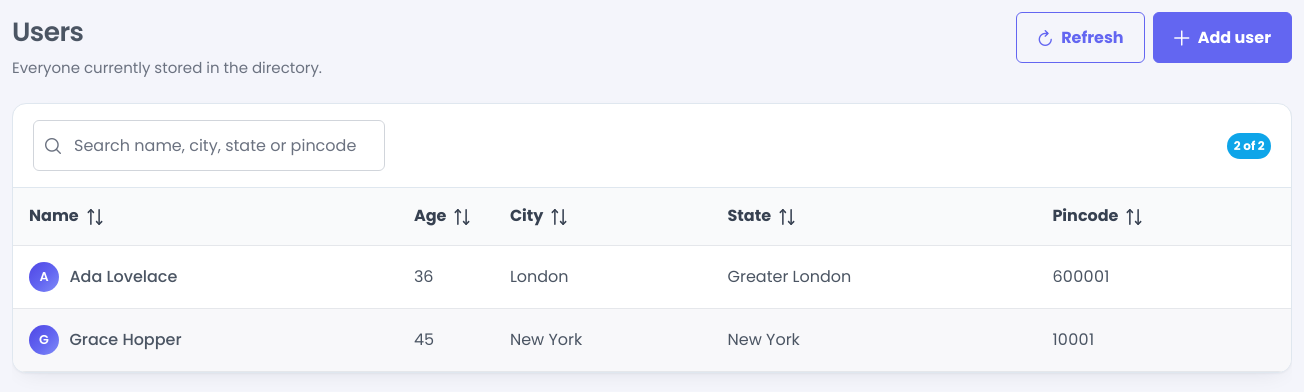
it: UserListPage › filters rows as the user searches
Expected: the text "Ada Lovelace" is shown, x1=69 y1=265 x2=177 y2=288
Type "new york" into the field named "Search users" at (209, 146), box x1=33 y1=120 x2=385 y2=171
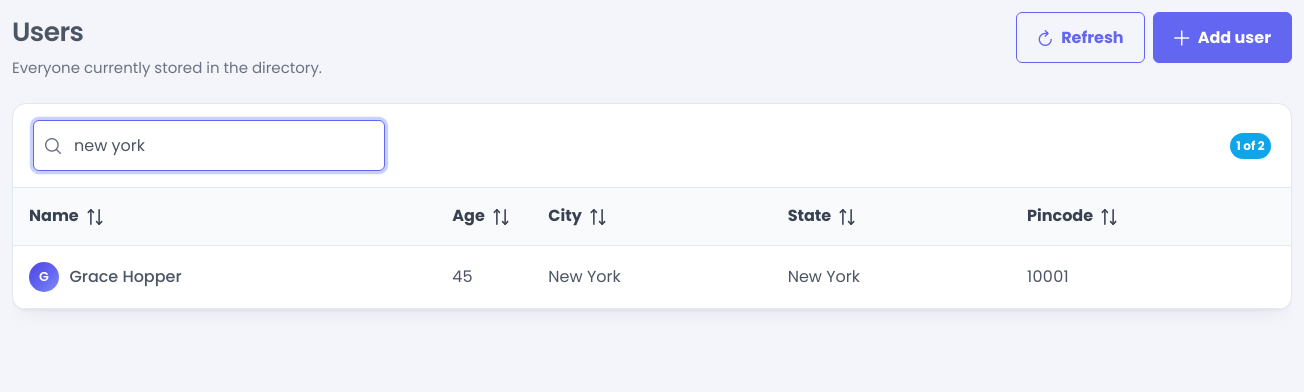
Expected: the text "Grace Hopper" is shown, x1=69 y1=265 x2=182 y2=288
Now the text "Ada Lovelace" is gone
